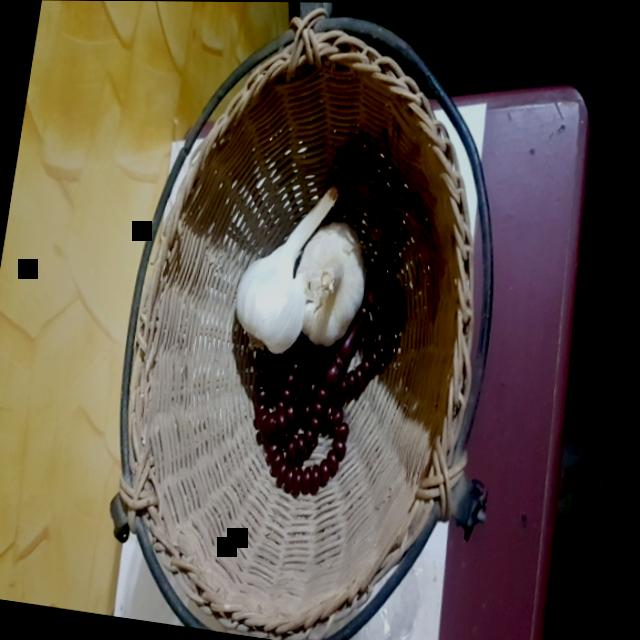garlic: (228, 163, 336, 362), (281, 213, 383, 348)
